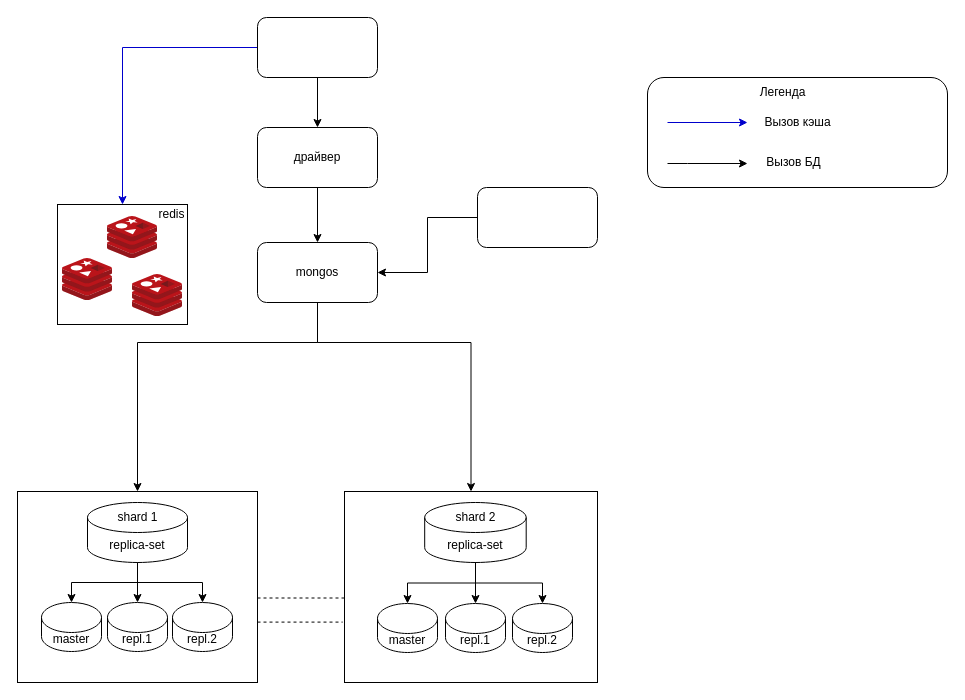
Some shapes in this 965 by 700 pixel diagram are drawn without their labels. The shapes that lost their labels are listed below. From the top down, each one's centre as x and y in pixels, then its label:
At (317,47): "pymongo-api".
At (537,217): "configSrv".
